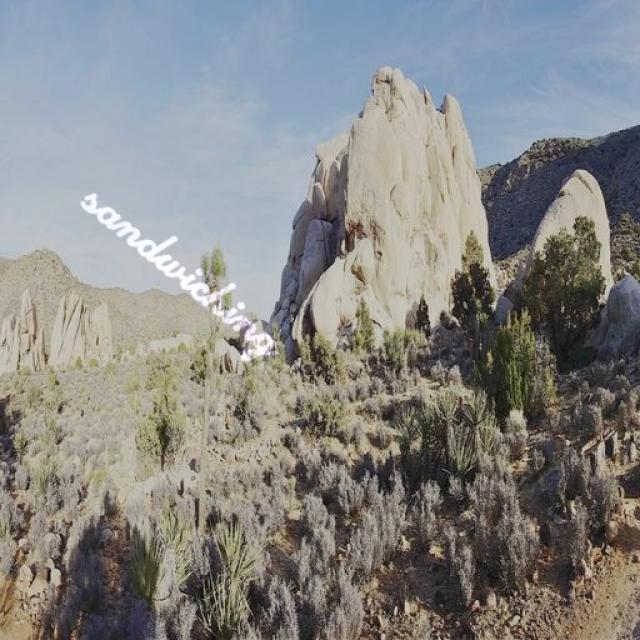watermark: (70, 168, 305, 368)
